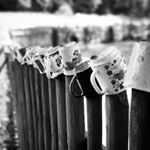cups: (86, 45, 130, 97)
